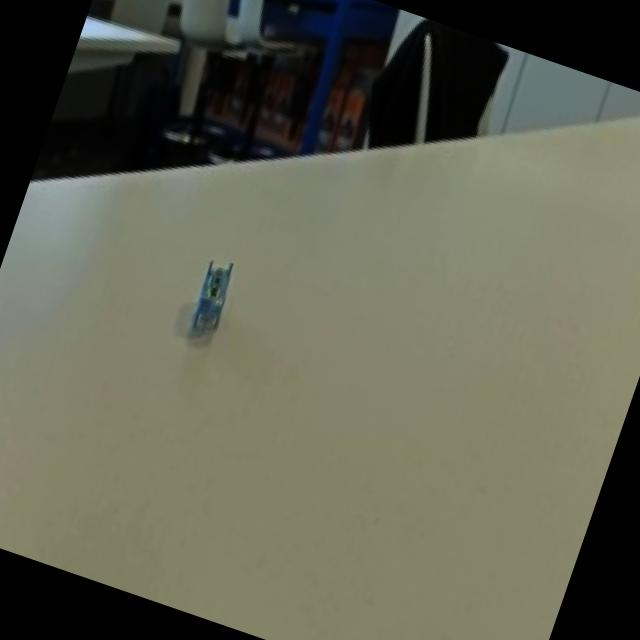3_NanoBug_Celeste: (154, 226, 261, 372)
